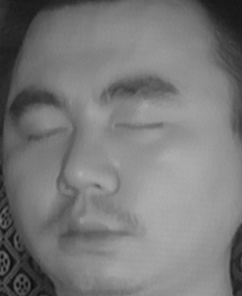blink: (112, 105, 167, 141), (20, 118, 69, 152)
mouth: (43, 201, 140, 263)
